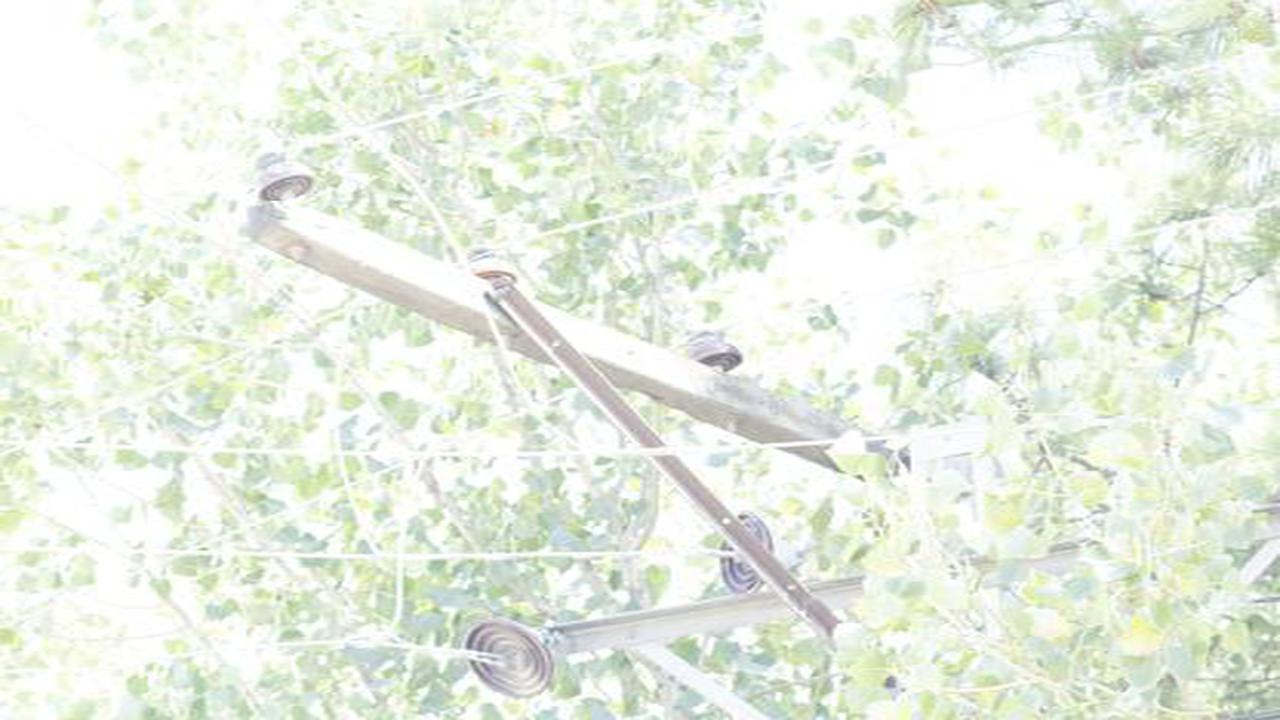insulator_disc: (463, 619, 557, 704), (711, 507, 778, 601)
insulator_pin: (252, 145, 319, 206), (681, 316, 746, 375), (463, 239, 521, 291)
